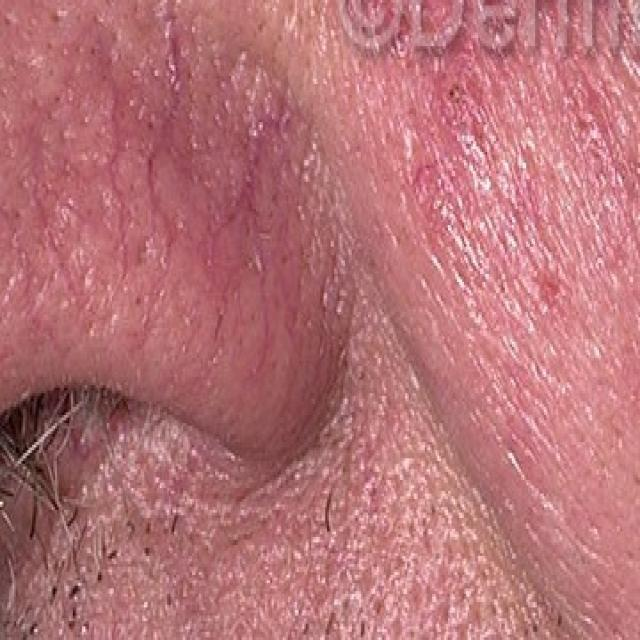Rosacea: (0, 7, 296, 371), (388, 42, 618, 305)
